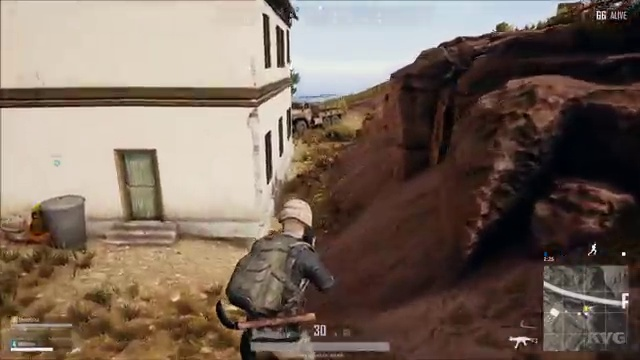Player: (204, 194, 374, 326)
